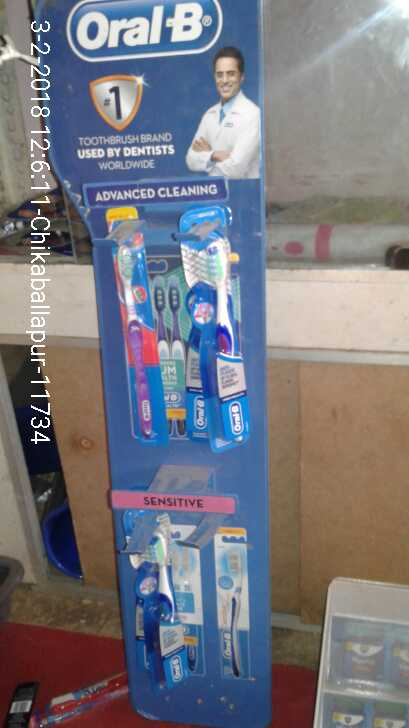oralb: (171, 212, 263, 452), (115, 503, 202, 694), (111, 216, 174, 449)
